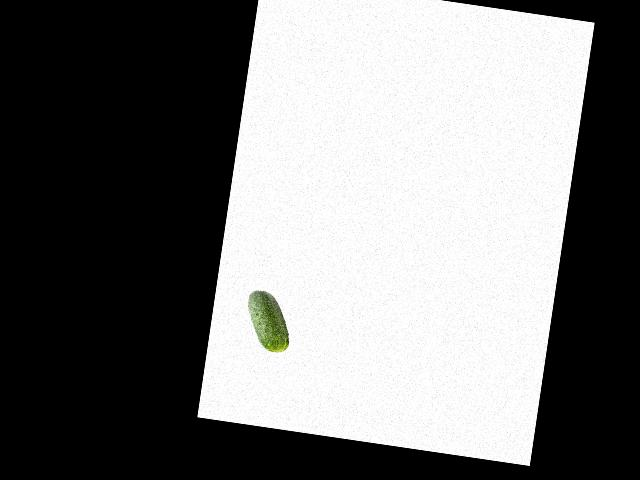cucumber: (241, 288, 295, 353)
